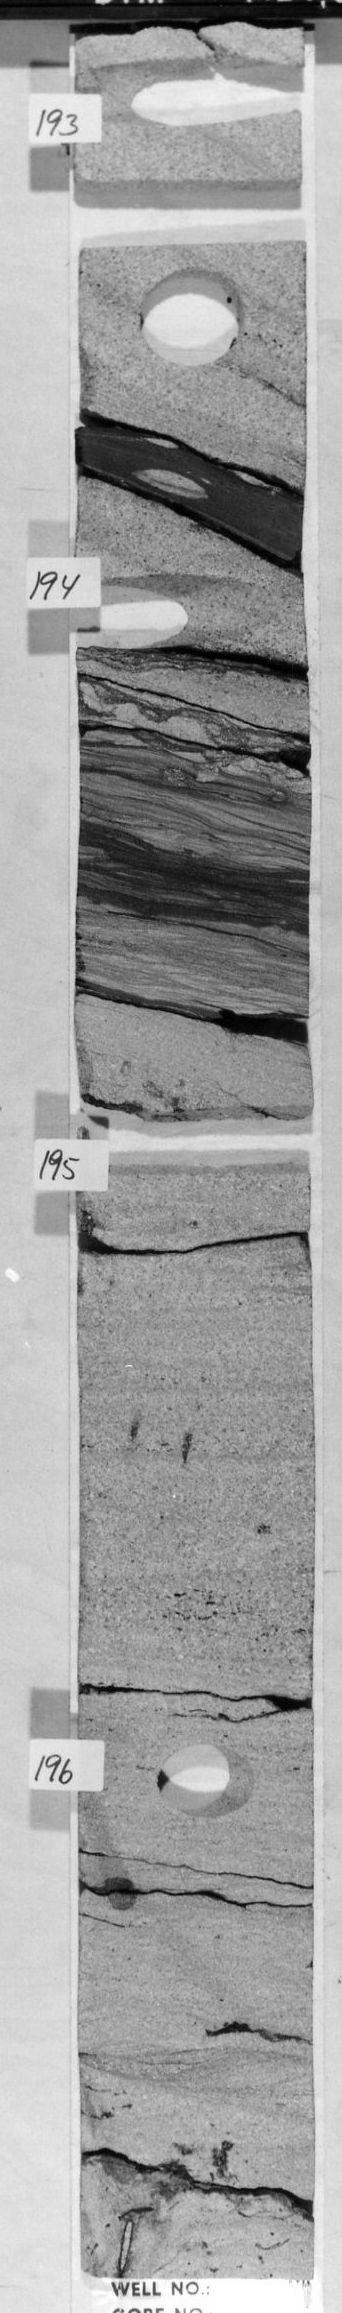hplug: (77, 52, 302, 134), (85, 1100, 304, 1179), (75, 574, 234, 651), (150, 1738, 258, 1822)
scal: (128, 258, 252, 375)
